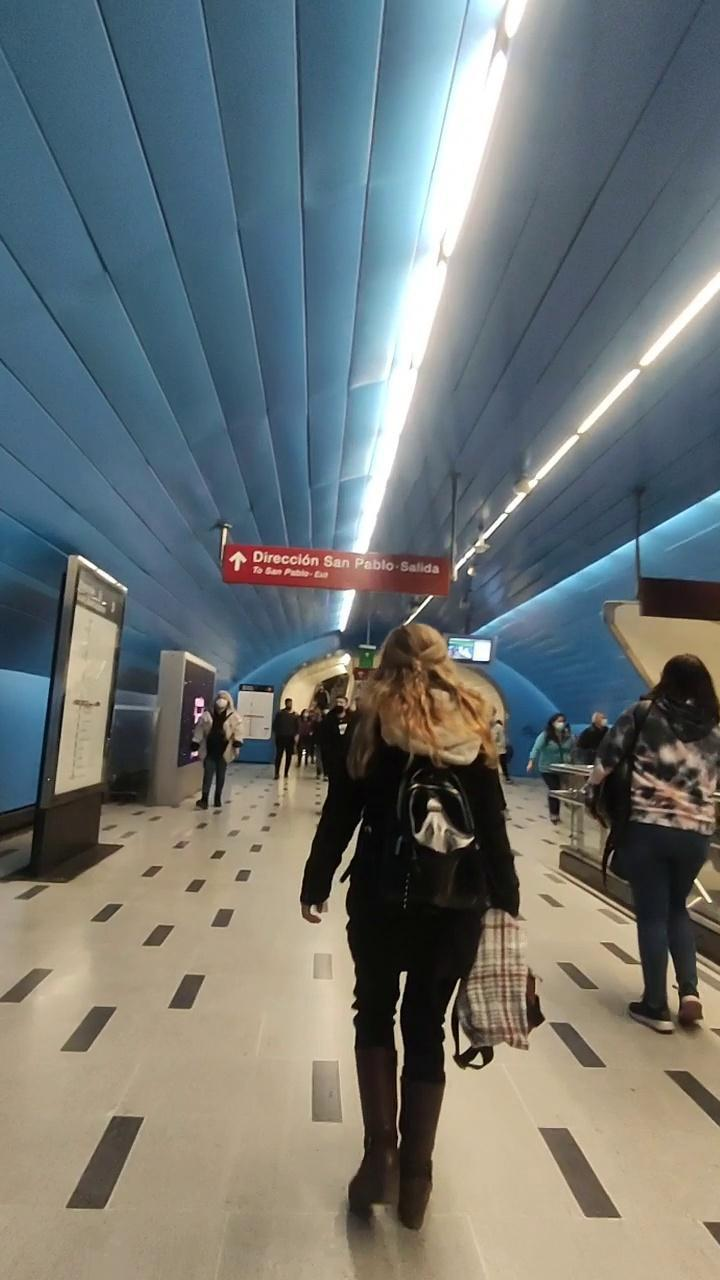up arrow: (226, 550, 250, 574)
